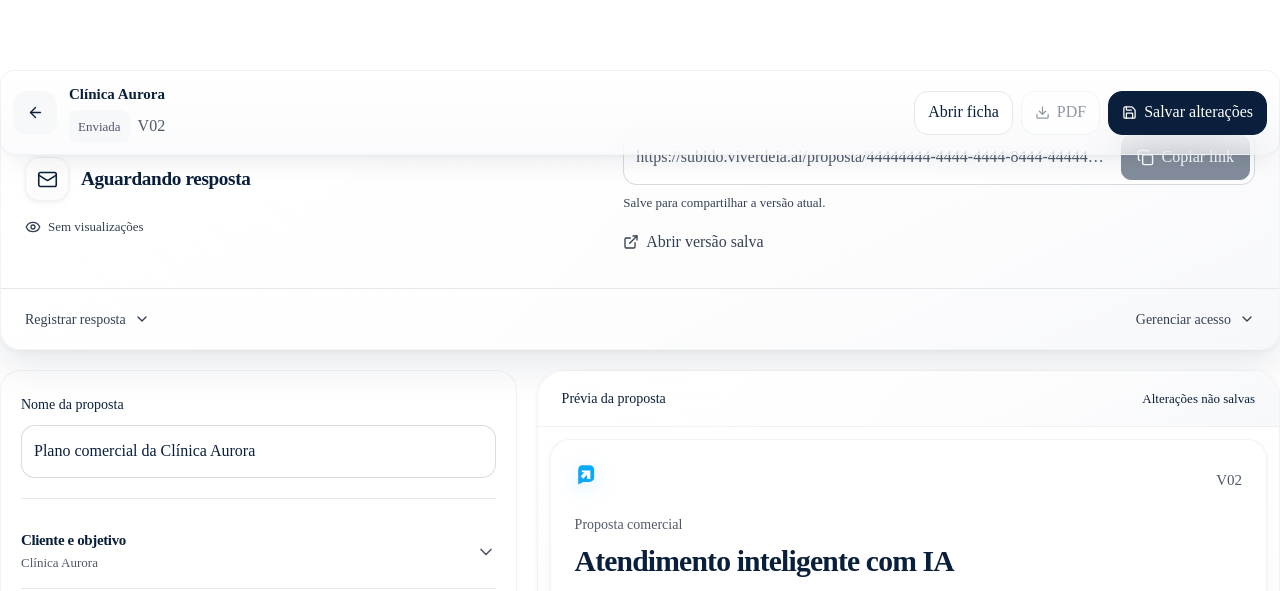
Scenario: EditorProposta › impede registrar a decisão enquanto houver alterações não salvas
This screenshot has width=1280, height=591.
What coordinates should you click on to do the following:
click the heading "Registrar resposta"
I would click on:
 (87, 319)
Its box is left=25, top=311, right=150, bottom=327.
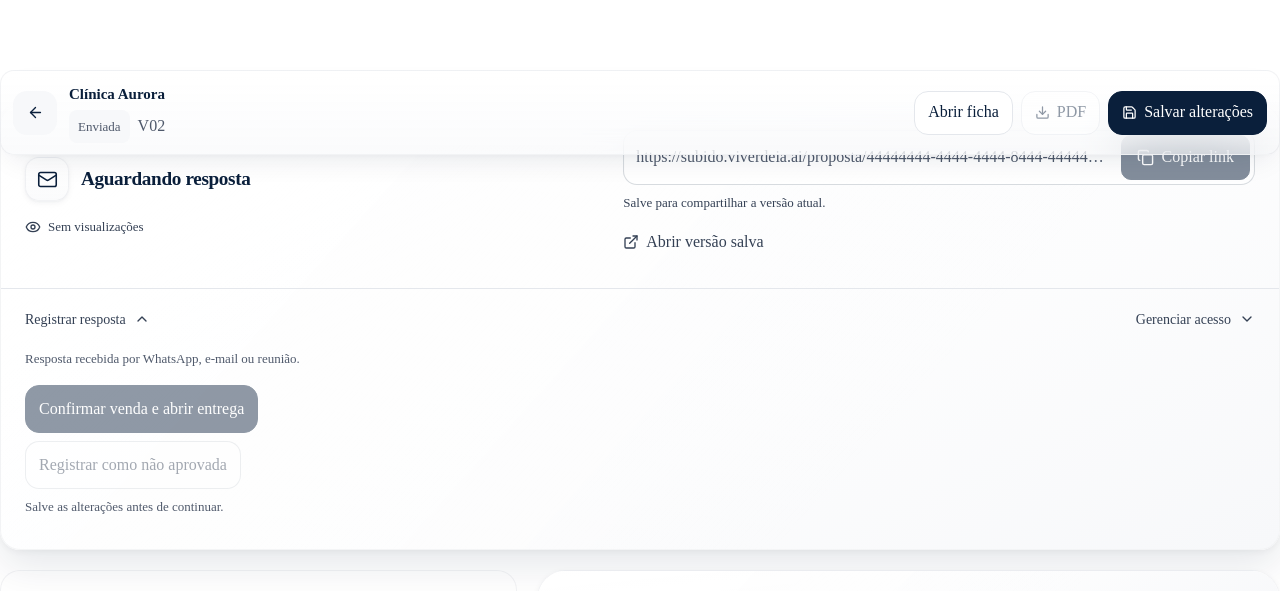
Check: the button "Copiar link" is disabled, box left=1121, top=135, right=1250, bottom=180
Check: the button "Confirmar venda e abrir entrega" is disabled, box left=25, top=385, right=258, bottom=433
